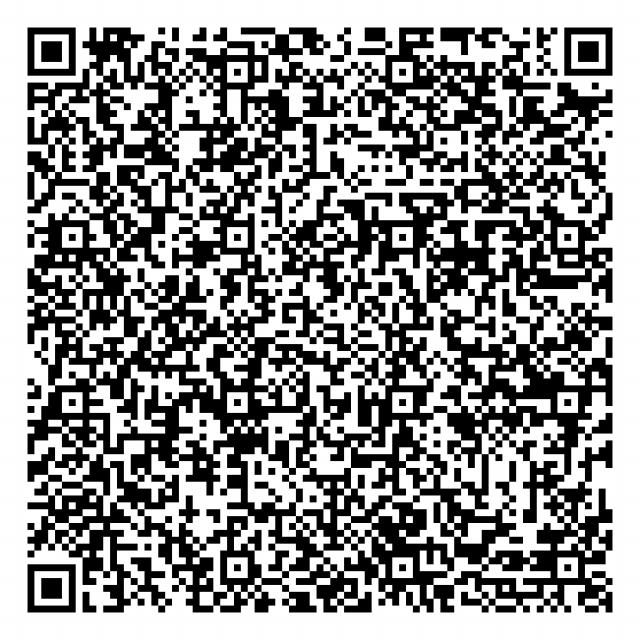QR_CODE: (18, 17, 623, 624)
